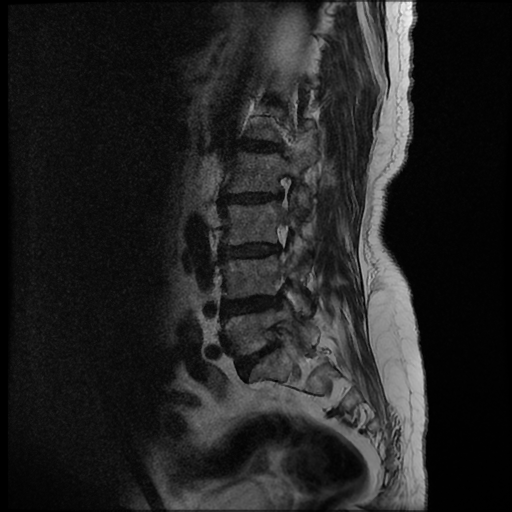LFS0: (267, 164, 300, 214)
